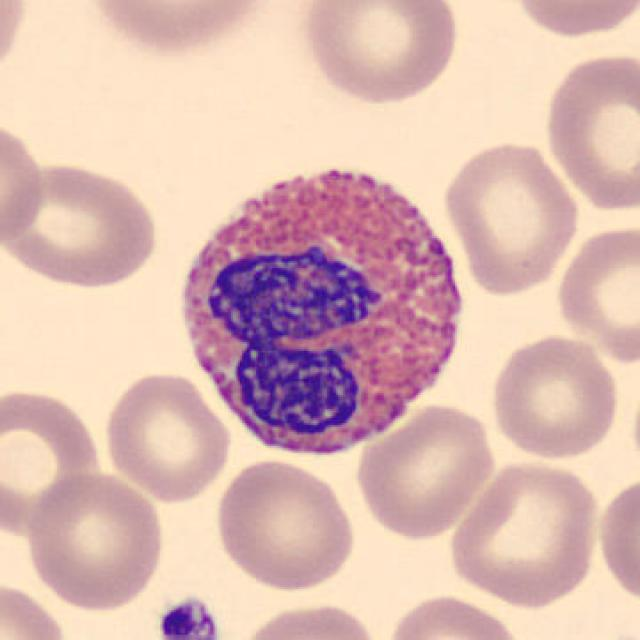Eosinophil: (160, 138, 484, 470)
Platelets: (153, 594, 224, 640)
RBC: (444, 457, 604, 610), (439, 136, 581, 300), (350, 398, 500, 542), (21, 467, 169, 612), (2, 159, 164, 291), (212, 455, 359, 592), (100, 367, 234, 504), (485, 330, 624, 462), (297, 0, 464, 108), (0, 381, 105, 539), (540, 48, 638, 215), (551, 220, 638, 367), (77, 0, 279, 58), (382, 590, 528, 640), (0, 112, 48, 255), (234, 597, 384, 640), (594, 467, 638, 610), (505, 0, 638, 41), (0, 576, 73, 640), (0, 0, 32, 90)
